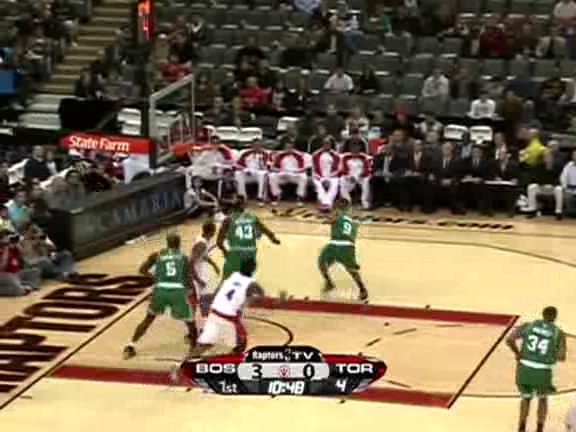person: (326, 201, 360, 282), (325, 201, 359, 282), (327, 201, 361, 282), (326, 200, 360, 281), (326, 202, 360, 283)
target_negative: (182, 210, 554, 267), (269, 21, 360, 248), (330, 140, 503, 168), (262, 415, 560, 424), (409, 303, 463, 352), (557, 2, 559, 94)
